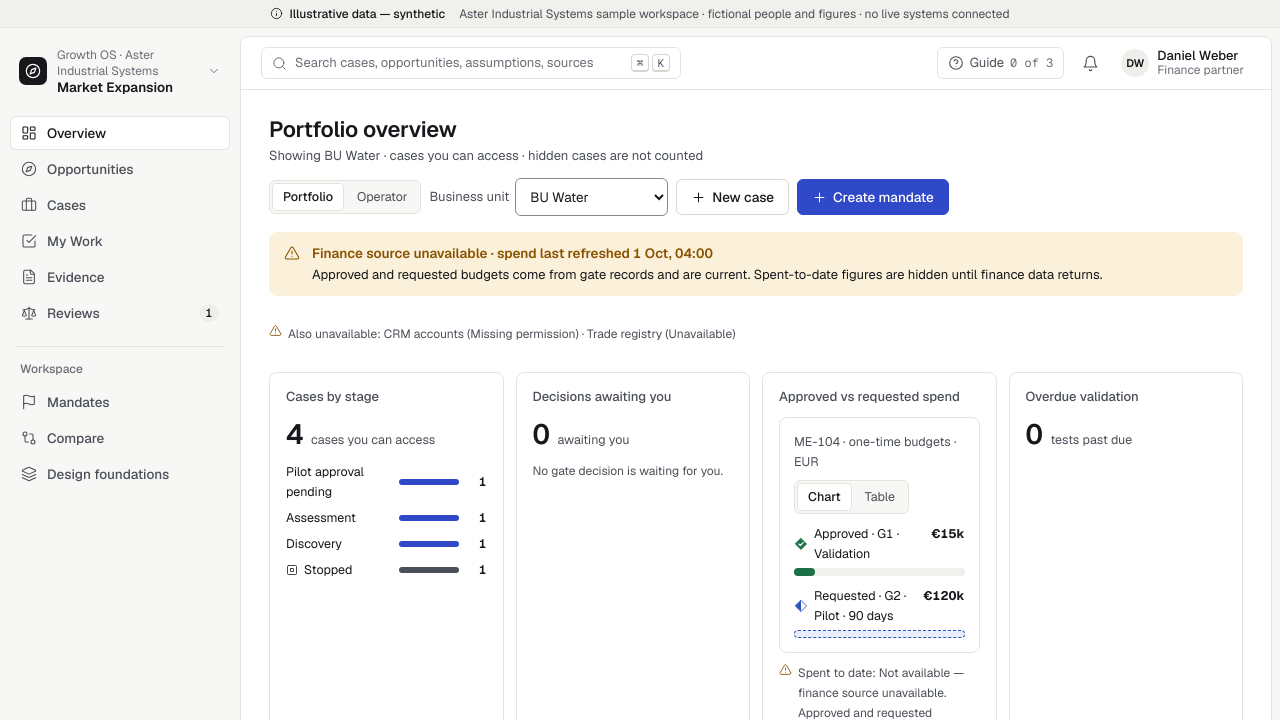
Test: coach marks › Next follows the path to the next step
The width and height of the screenshot is (1280, 720).
Step 1. Click the button "Guide 0 of 3" → (1001, 63), box [937,47,1064,79]
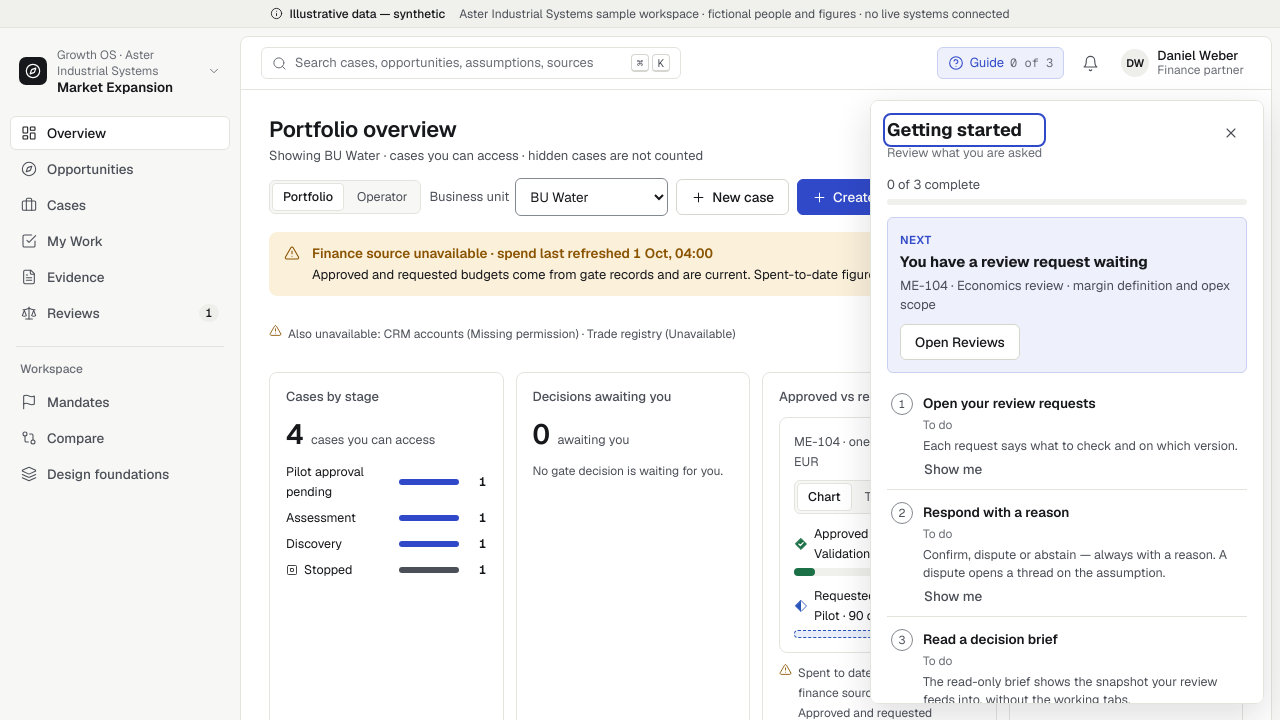
Step 2. Click the button with aria-label "Show me: Open your review requests" → (960, 469), box [923,457,997,481]
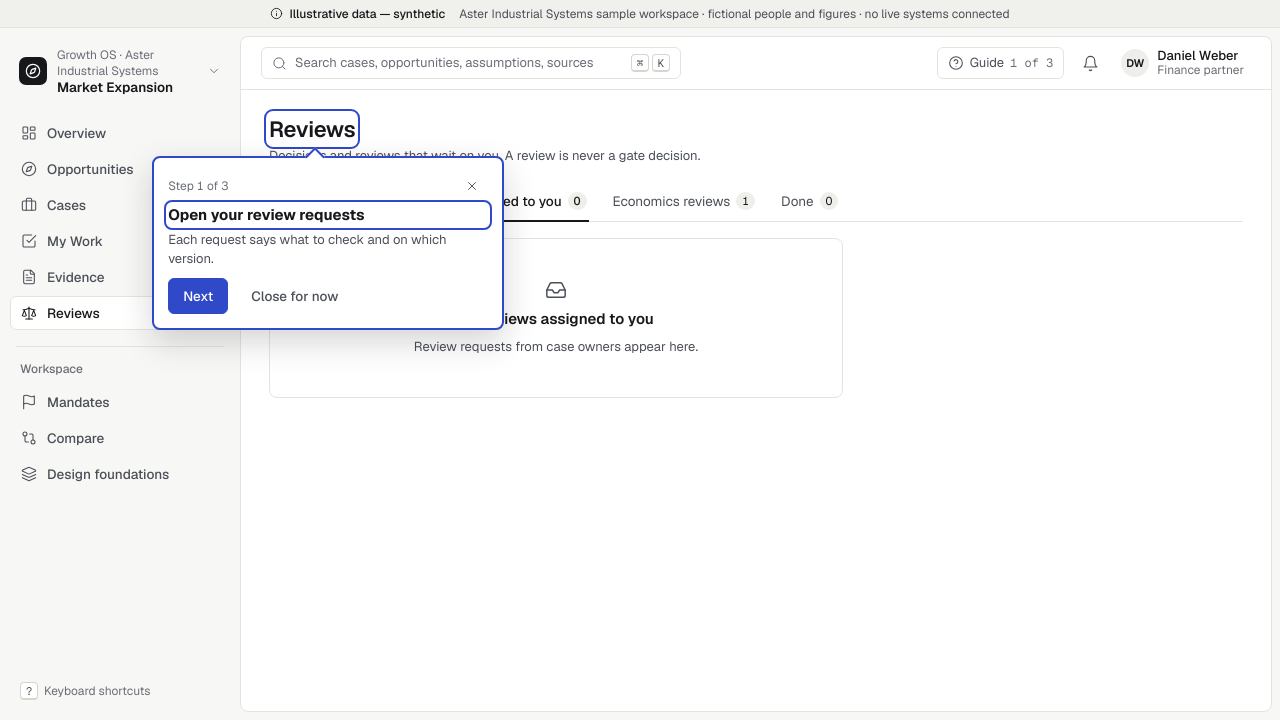
Step 3. Click the button "Next" → (198, 296), box [168,278,228,314]
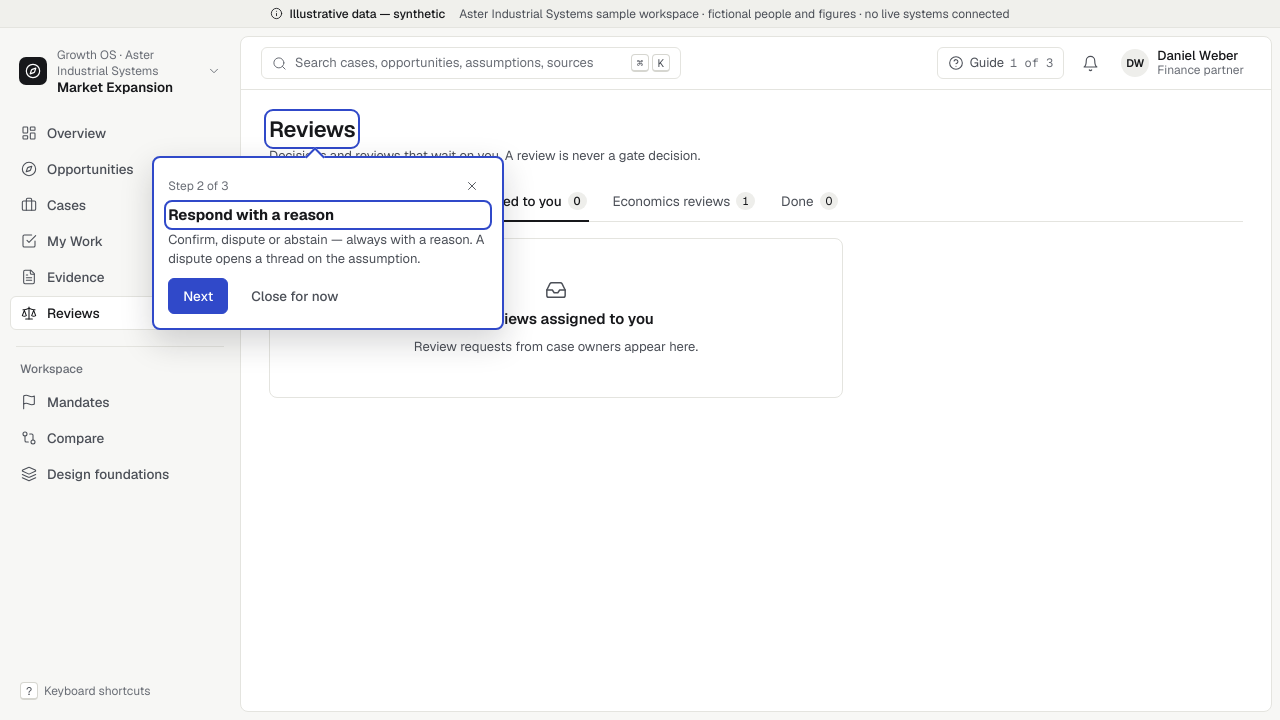
Result: the dialog "Respond with a reason" is shown at [152,156,504,330]
